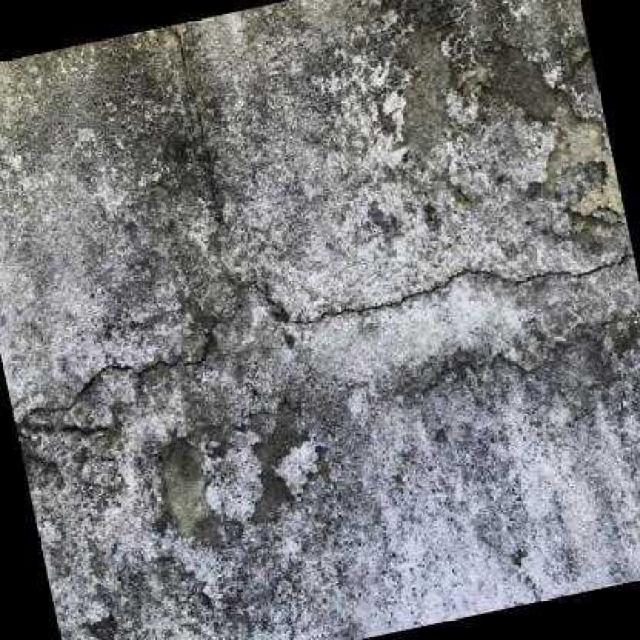D00: (157, 24, 634, 327), (20, 319, 226, 420)
